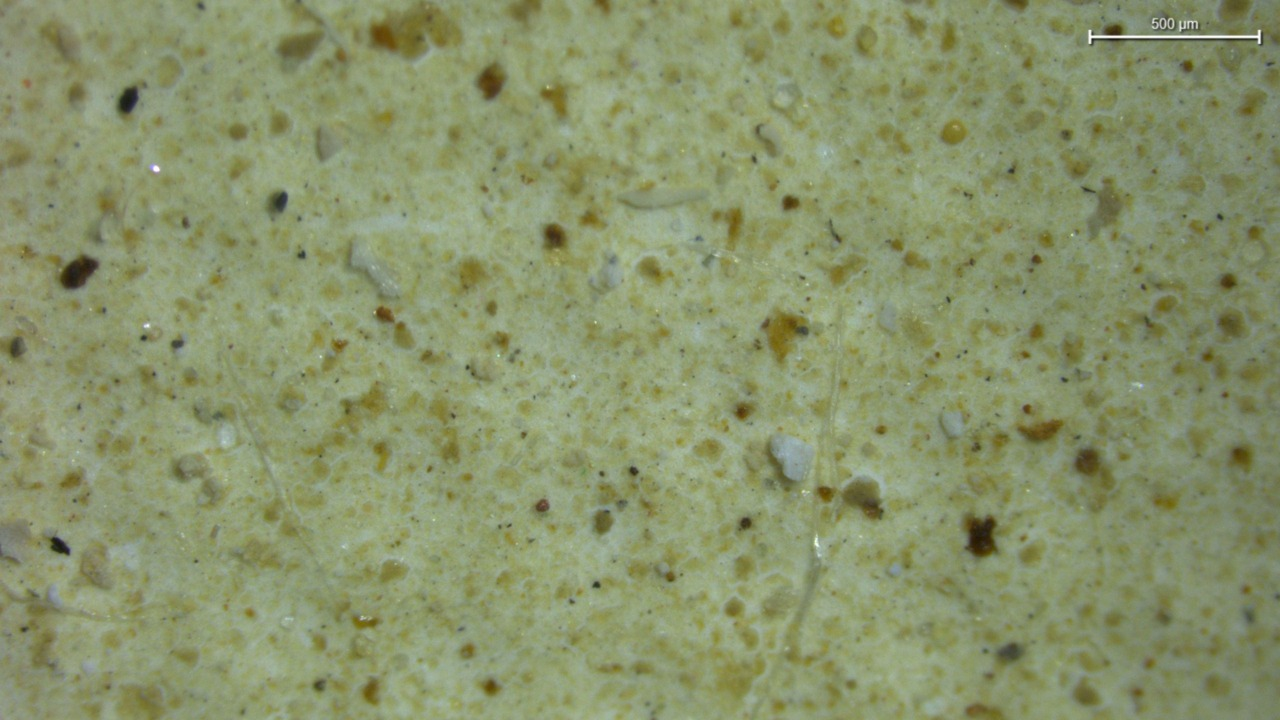microplastic_fragment: (349, 236, 401, 298), (769, 433, 815, 482), (316, 126, 342, 162), (939, 410, 964, 438), (877, 301, 898, 332)
